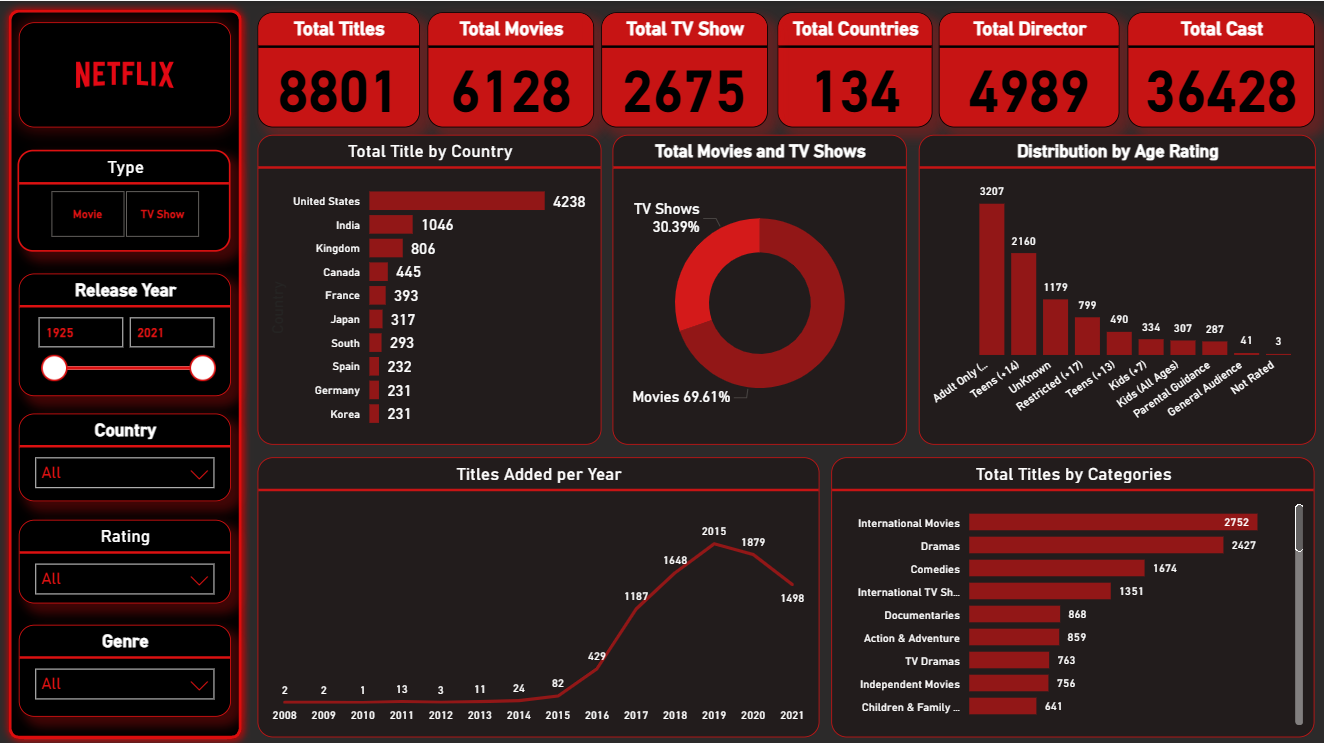

This screenshot's page, from the dashboard's own definition file:
{"tool":"powerbi","page":{"name":"NETFLIX Overview","canvas":[1280,720],"ordinal":0},"visuals":[{"type":"card","title":"Total Countries","fields":{"Values":["Count(Country.Country)"]},"box":[750.6,11,149.6,111.1],"z":0},{"type":"card","title":"Total Director","fields":{"Values":["Count(Director.Director)"]},"box":[906.6,11,174.3,111.1],"z":1000},{"type":"card","title":"Total Cast","fields":{"Values":["Count(Cast.Cast)"]},"box":[1088.2,11,181.1,111.1],"z":2000},{"type":"shape","box":[0,0,241.5,720.4],"z":3000},{"type":"image","box":[17.8,20.6,204.5,101.5],"z":4000},{"type":"card","title":"Total Titles","fields":{"Values":["Count(netflix_titles.title)"]},"box":[248.8,11,156.4,111.1],"z":5000},{"type":"card","title":"Total Movies","fields":{"Values":["_Measures.Number of Movies"]},"box":[412.6,11,160.5,111.1],"z":6000},{"type":"card","title":"Total TV Show","fields":{"Values":["_Measures.Number of TV Shows"]},"box":[580.4,11,160.5,111.1],"z":7000},{"type":"slicer","title":"Type","fields":{"Values":["netflix_titles.type"]},"box":[16.5,143.3,205.8,98.8],"z":8000},{"type":"slicer","title":"Release Year","fields":{"Values":["netflix_titles.release_year"]},"box":[17.8,263.2,204.5,118],"z":9000},{"type":"slicer","title":"Country","fields":{"Values":["Country.Country"]},"box":[17.8,397.9,204.5,85.1],"z":10000},{"type":"slicer","title":"Rating","fields":{"Values":["netflix_titles.rating"]},"box":[17.8,500.3,204.5,81],"z":11000},{"type":"slicer","title":"Genre","fields":{"Values":["Listed In.Listed In"]},"box":[17.8,602.4,204.5,89.2],"z":12000},{"type":"clusteredBarChart","title":"Total Title by Country","fields":{"Category":["Country.Country"],"Y":["Count(netflix_titles.title)"]},"box":[248.4,129,332.1,299.1],"z":13000},{"type":"donutChart","title":"Total Movies and TV Shows","fields":{"Y":["_Measures.Number of Movies","_Measures.Number of TV Shows"]},"box":[591.4,129,284,299.1],"z":14000},{"type":"columnChart","title":"Distribution by Age Rating","fields":{"Y":["CountNonNull(netflix_titles.rating)"],"Category":["netflix_titles.Rating Name"]},"box":[886.5,129,382.8,299.1],"z":15000},{"type":"lineChart","title":"Titles Added per Year","fields":{"Category":["netflix_titles.date_added.Variation.Date Hierarchy.Year"],"Y":["Count(netflix_titles.title)"]},"box":[248.4,440.5,542,270.3],"z":16000},{"type":"barChart","title":"Total Titles by Categories","fields":{"Category":["Listed In.Listed In"],"Y":["CountNonNull(Listed In.Listed In)"]},"box":[802.7,440.5,466.6,270.3],"z":17000}]}

Visuals, with their boxes in screenshot pixels (x1, y1, x2, y2), scaled from the page's 1280x720 canvas onto the 1324x743 screenshot:
"Total Countries" card: (776, 11, 931, 126)
"Total Director" card: (938, 11, 1118, 126)
"Total Cast" card: (1126, 11, 1313, 126)
shape: (0, 0, 250, 742)
image: (18, 21, 230, 126)
"Total Titles" card: (257, 11, 419, 126)
"Total Movies" card: (427, 11, 593, 126)
"Total TV Show" card: (600, 11, 766, 126)
"Type" slicer: (17, 148, 230, 250)
"Release Year" slicer: (18, 272, 230, 393)
"Country" slicer: (18, 411, 230, 498)
"Rating" slicer: (18, 516, 230, 600)
"Genre" slicer: (18, 622, 230, 714)
"Total Title by Country" clusteredBarChart: (257, 133, 600, 442)
"Total Movies and TV Shows" donutChart: (612, 133, 905, 442)
"Distribution by Age Rating" columnChart: (917, 133, 1313, 442)
"Titles Added per Year" lineChart: (257, 455, 818, 734)
"Total Titles by Categories" barChart: (830, 455, 1313, 734)
